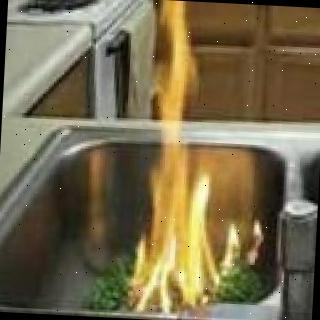fire: (126, 0, 231, 320), (219, 216, 266, 292)
